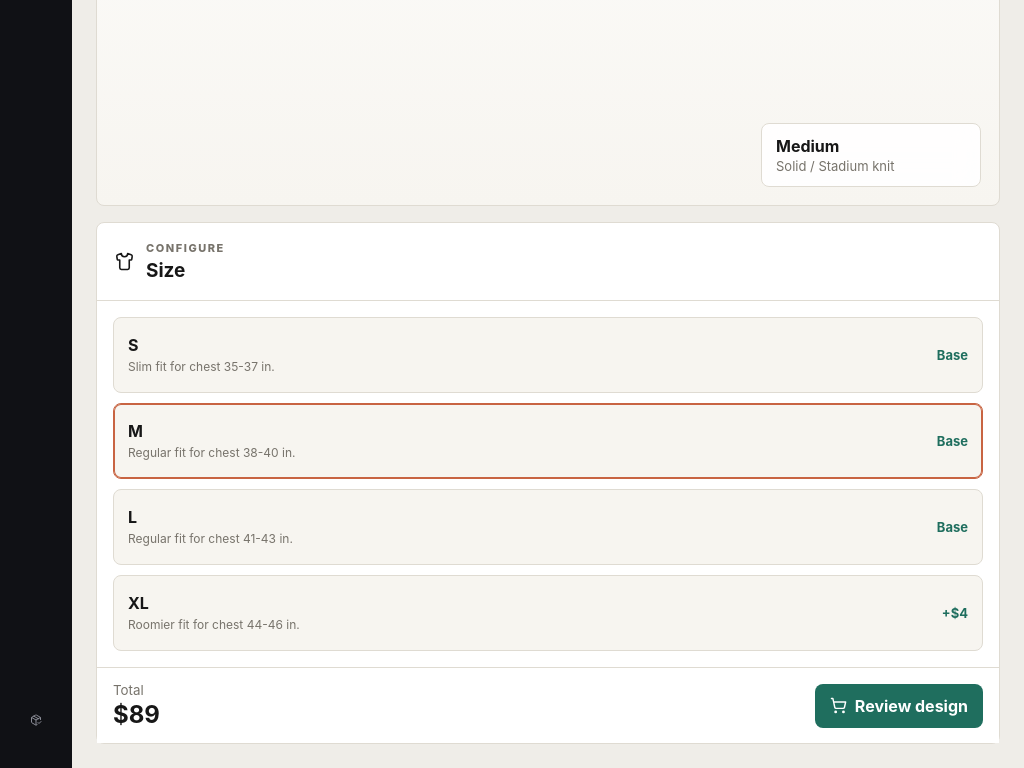
Scenario: ConfiguratorPage › shows total and review action in a fixed footer instead of the top bar
The width and height of the screenshot is (1024, 768).
(page scrolled)
Expected: the element with test id "panel-checkout" shows "$89", x1=97 y1=667 x2=999 y2=743
Click the button "Review design": (899, 706) x1=815 y1=684 x2=983 y2=728
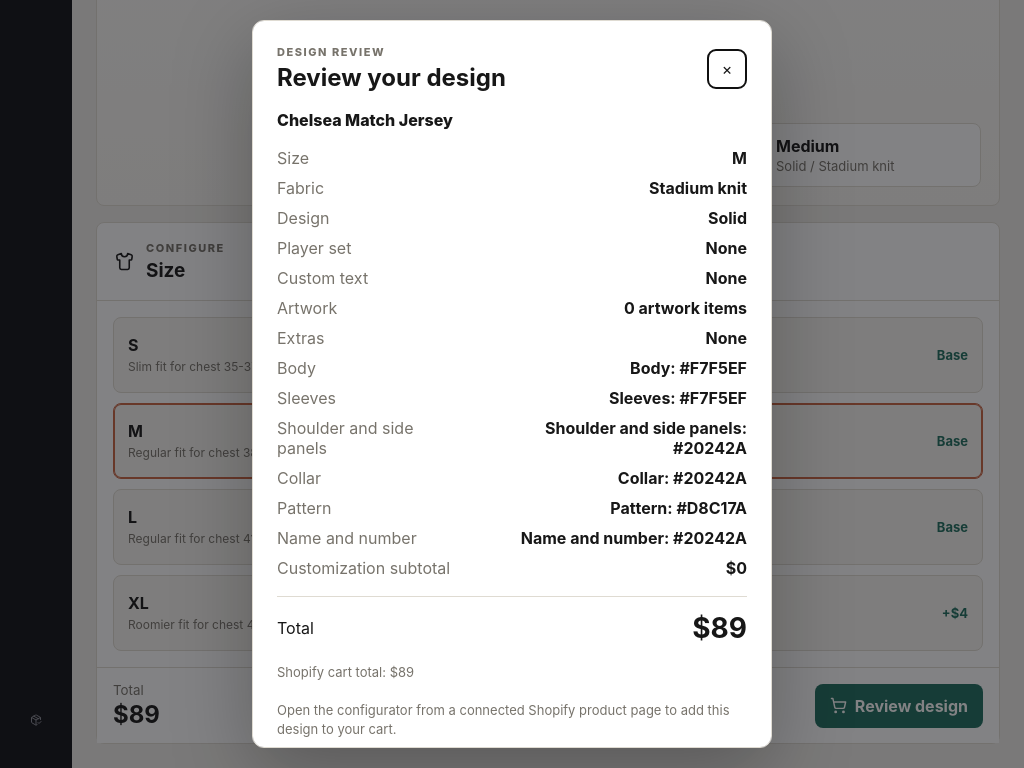
Expected: the dialog "Review your design" is shown, x1=252 y1=20 x2=772 y2=748
